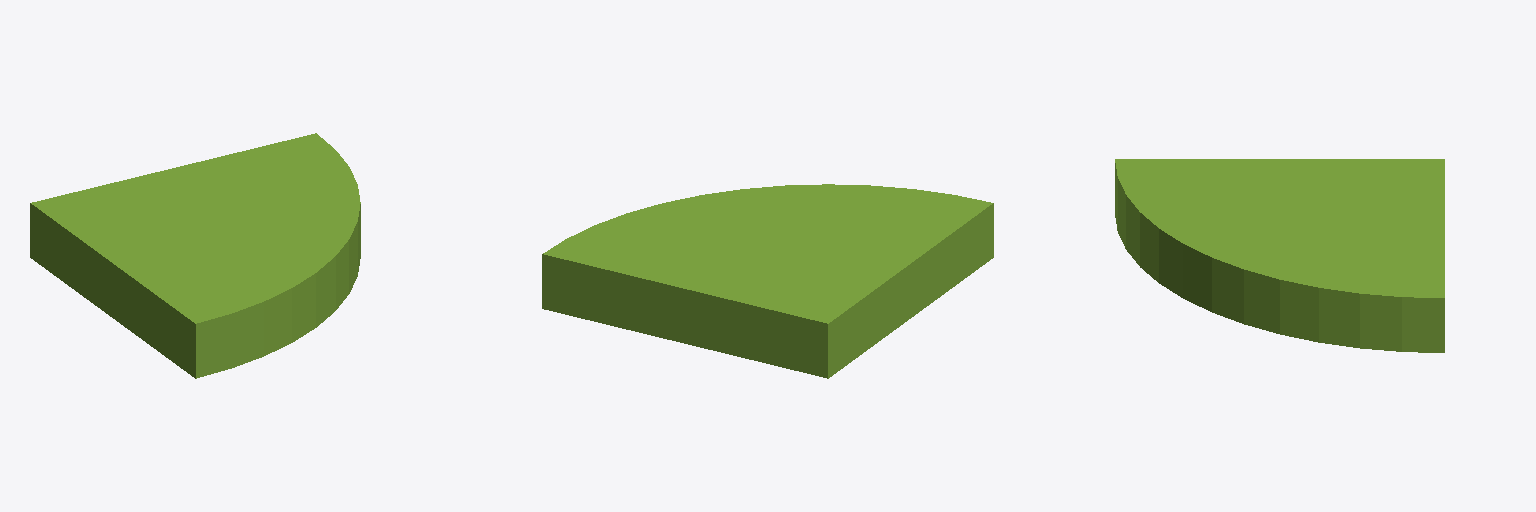
3 renders of one model, left to right at view 1: azimuth 30°, elevation 25°; view 2: azimuth 150°, elevation 25°; view 3: azimuth 270°, elevation 25°, orthographic.
Parts seen in each view (by area): view 1: roadTile_029.001; view 2: roadTile_029.001; view 3: roadTile_029.001.
Boxes of the visible parts, <box> form: roadTile_029.001: <box>30,133,360,378</box>; roadTile_029.001: <box>542,184,993,378</box>; roadTile_029.001: <box>1115,159,1444,352</box>.
Bounding box in the file's own units: 3 × 0.55 × 3.